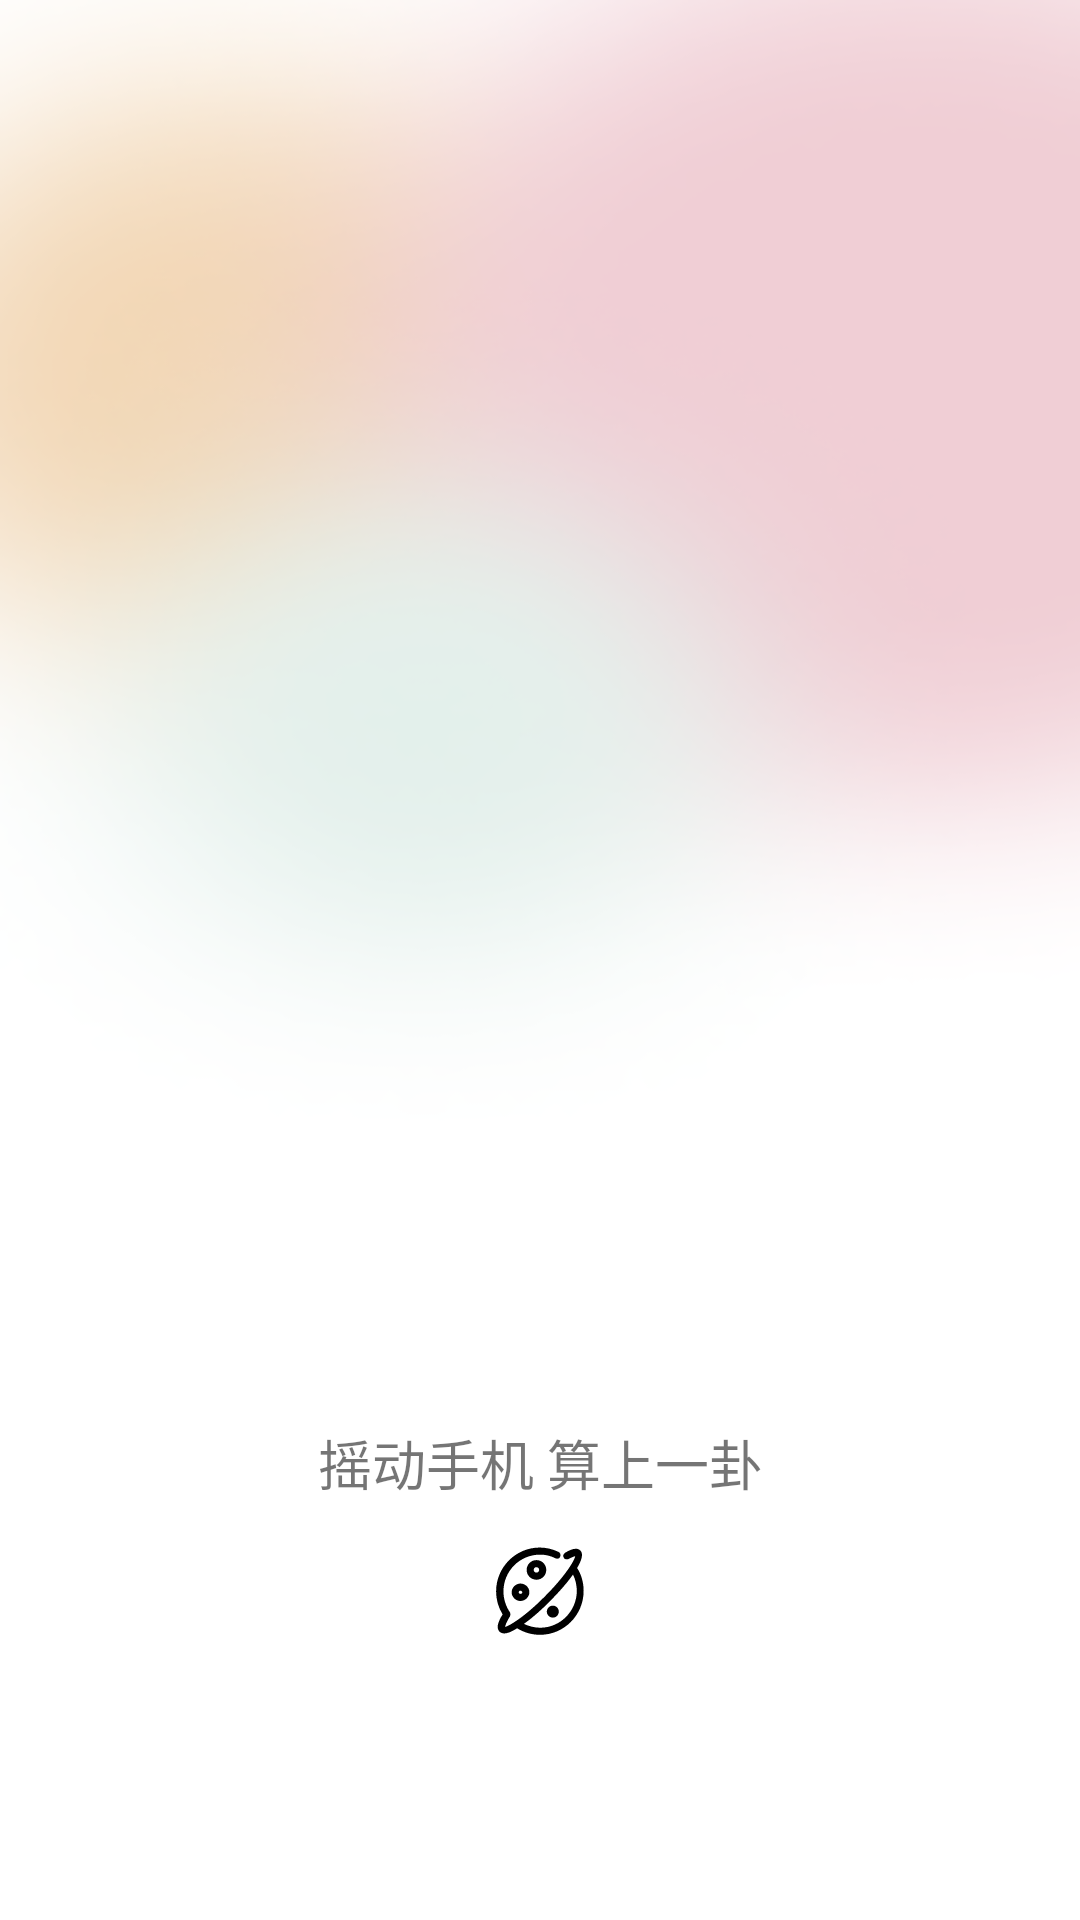

Icons on this 1080x1920 Android screen, each with its box as bbox=[x1, y1, x2, y2]:
xingzuo: bbox=[496, 1547, 584, 1635]
